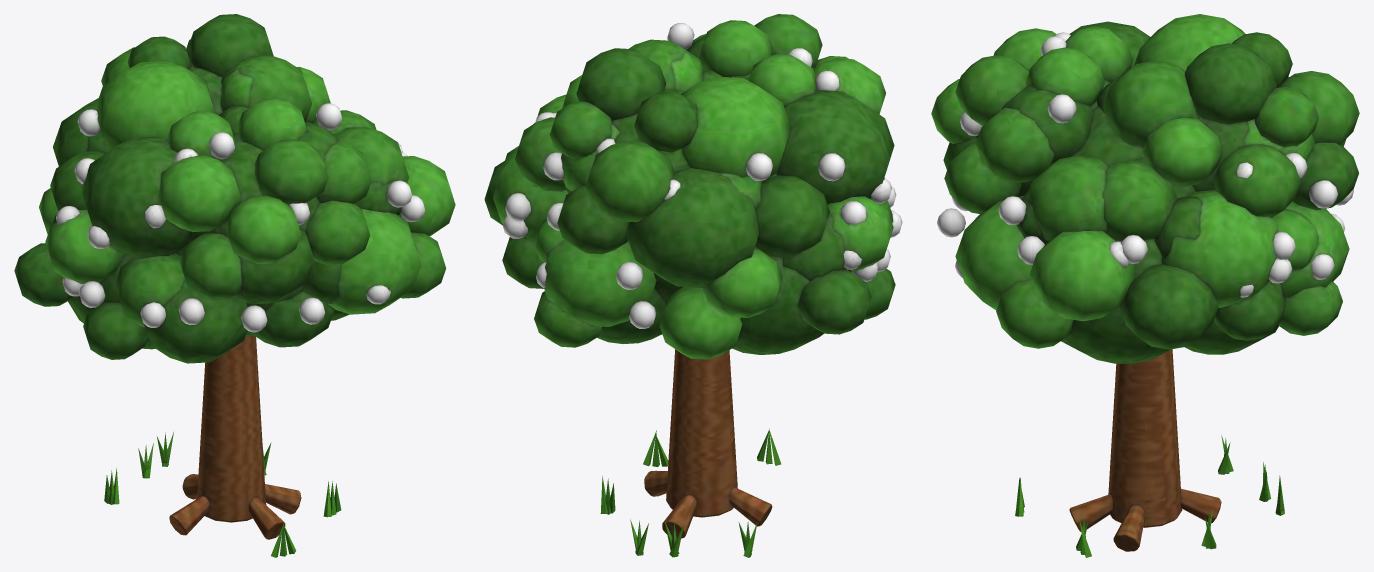
File: mirabelle_tree.glb
3 renders of one model, left to right at view 1: azimuth 30°, elevation 25°; view 2: azimuth 150°, elevation 25°; view 3: azimuth 270°, elevation 25°, orthographic. The views are drawn at different scales.
Parts seen in each view (by area): view 1: crown, mirabelle_tree; view 2: crown, mirabelle_tree; view 3: crown, mirabelle_tree.
Boxes of the visible parts, bbox=[...] form: crown: bbox=[14, 14, 455, 363]; mirabelle_tree: bbox=[104, 335, 341, 557]; crown: bbox=[484, 14, 902, 359]; mirabelle_tree: bbox=[600, 349, 781, 557]; crown: bbox=[931, 14, 1359, 363]; mirabelle_tree: bbox=[1015, 349, 1284, 557].
Size of the model in its own units: 1.07 by 1.25 by 0.9745.
1 material, 1 textured.
